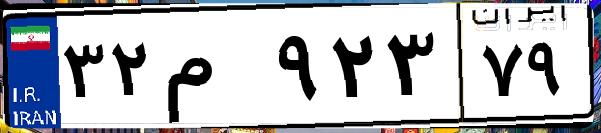2: (330, 28, 385, 110), (110, 28, 158, 98)
3: (385, 28, 445, 110), (57, 26, 110, 100)
7: (475, 38, 525, 113)
9: (270, 28, 330, 110), (525, 38, 570, 115)
م: (158, 20, 270, 120)
